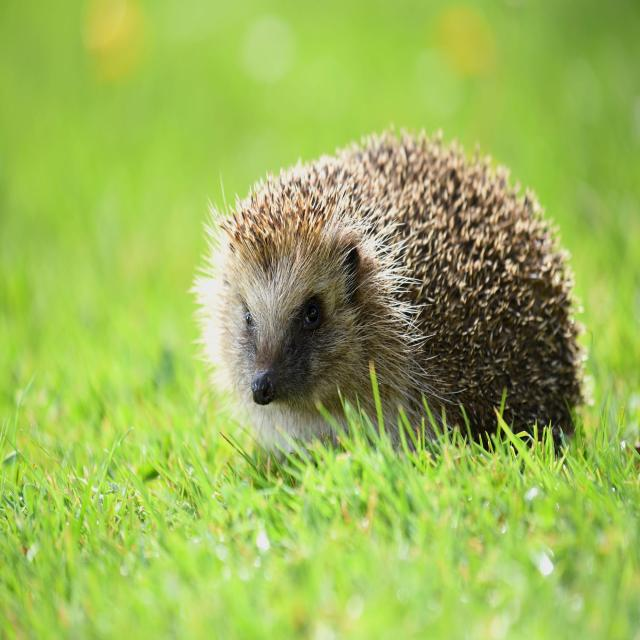Hedgehog: (198, 133, 587, 461)
